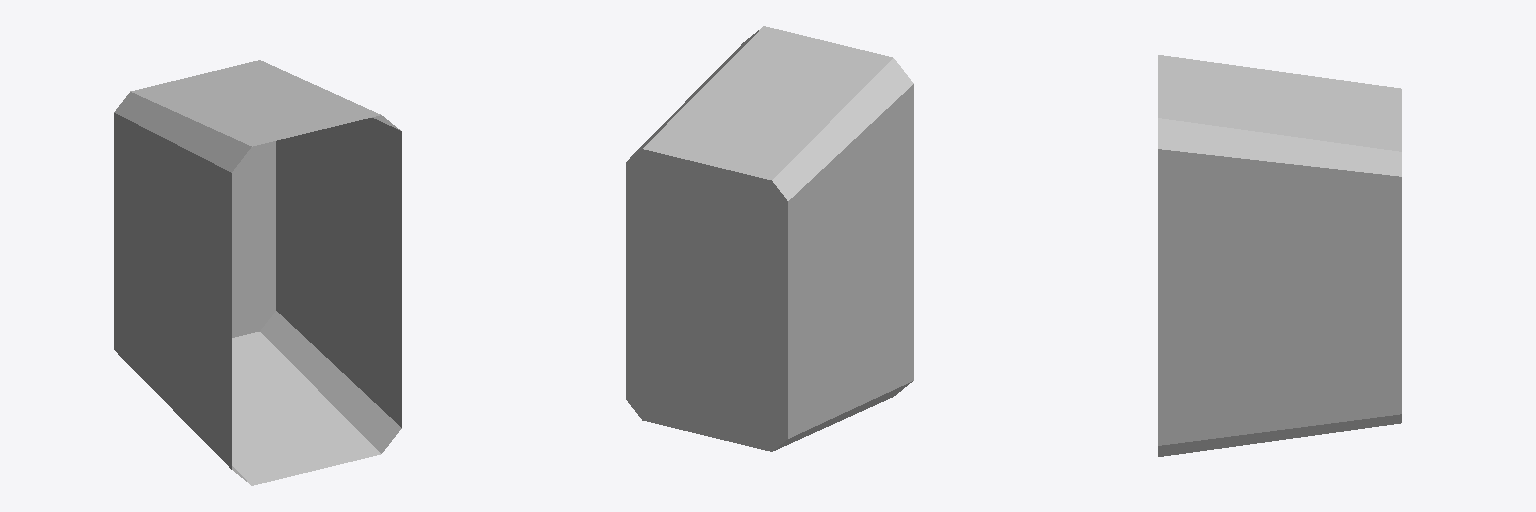
The model's file is original-18.obj.
3 views of the same model, side by side, from view 1: azimuth 30°, elevation 25°; view 2: azimuth 150°, elevation 25°; view 3: azimuth 270°, elevation 25° (orthographic).
Visible parts, largest first — view 1: #ID1244; view 2: #ID1244; view 3: #ID1244.
Part boxes in pixels (x1,y1,x2,y2): #ID1244: (114, 60, 401, 485); #ID1244: (626, 26, 913, 451); #ID1244: (1158, 55, 1401, 456).
Size of the model in its own units: 0.2977 by 0.567 by 0.3686.